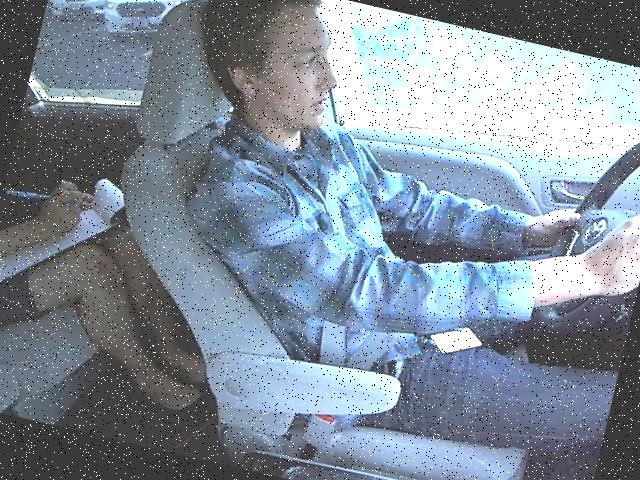c0 - Safe Driving: (134, 0, 639, 392)
